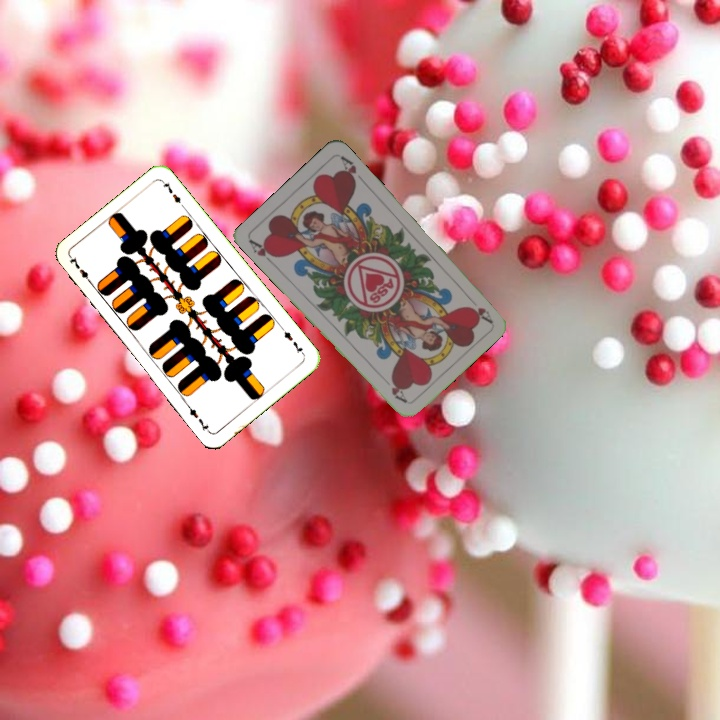E7: (277, 324, 307, 358), (66, 253, 95, 288)
HA: (245, 236, 279, 269), (463, 291, 494, 325)
